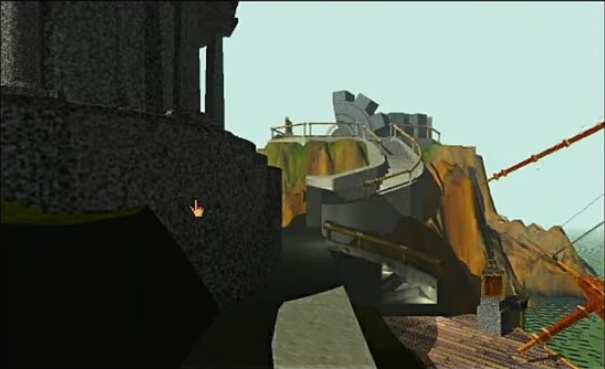Pointer: (186, 196, 208, 220)
